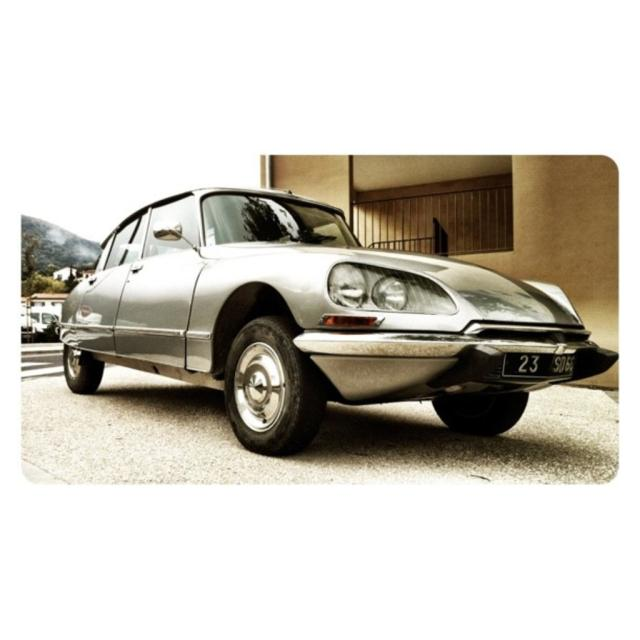car: (56, 178, 578, 451)
